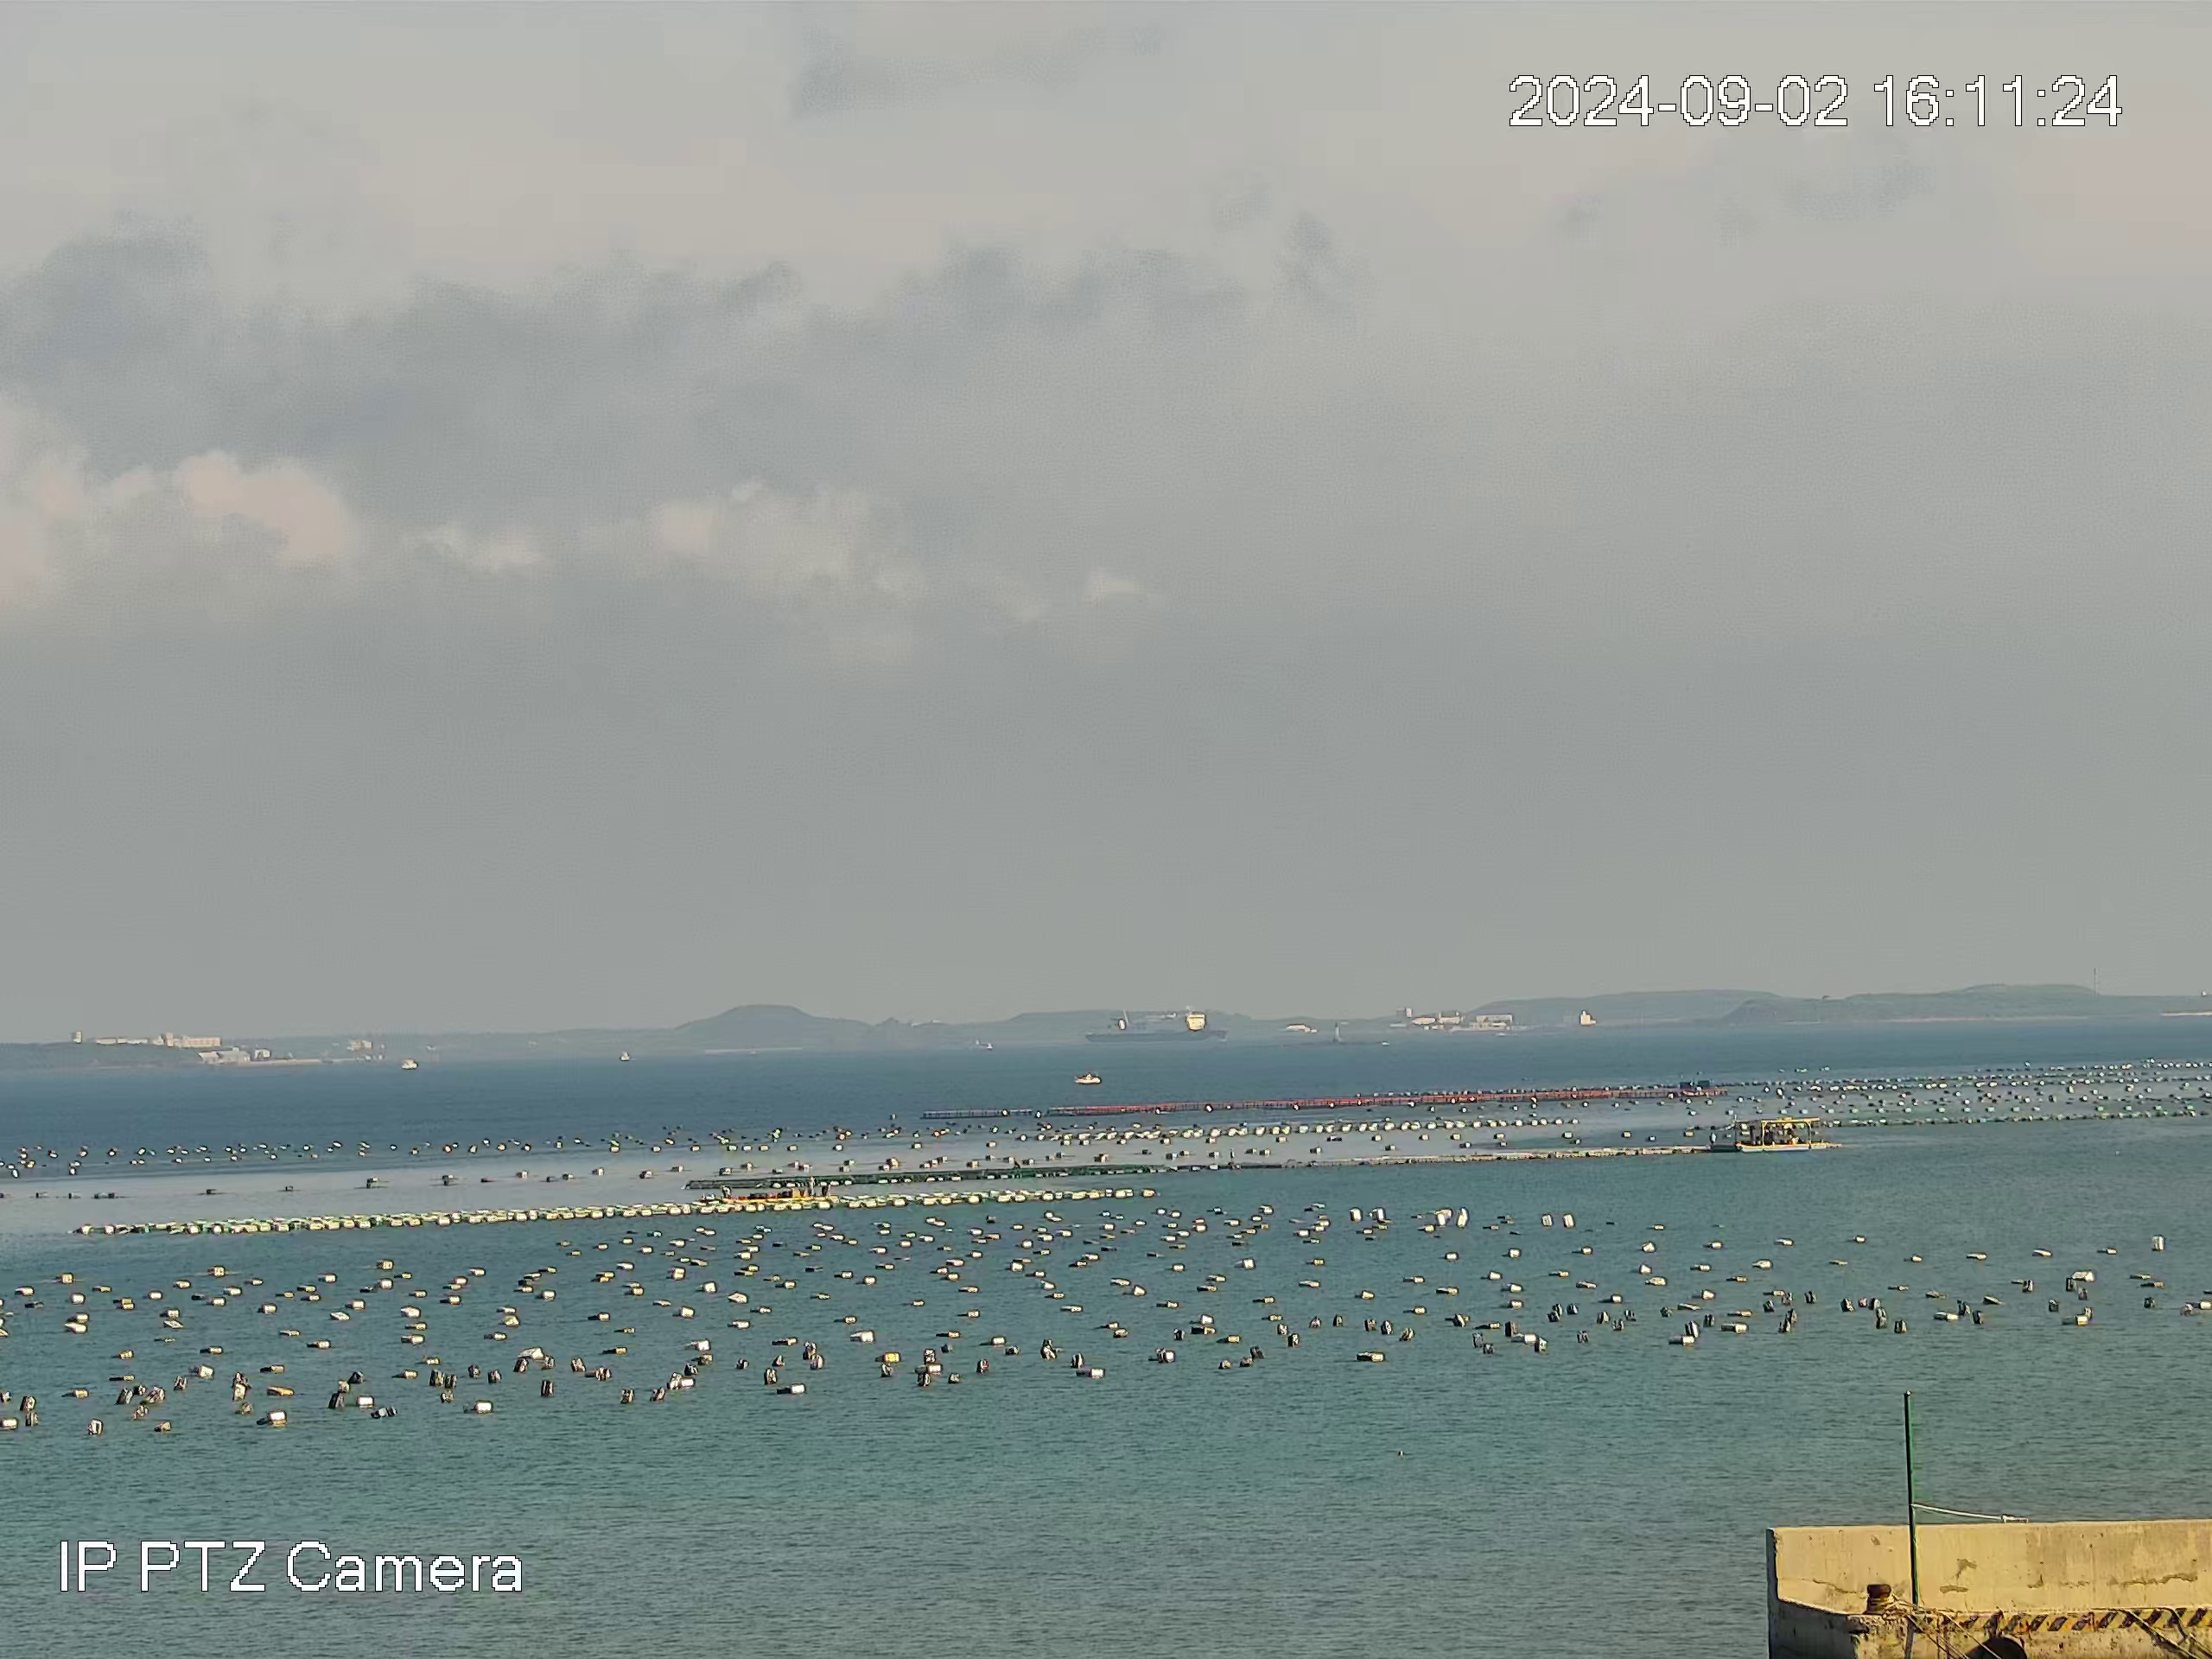boat: (1083, 1012, 1228, 1044), (1733, 1115, 1827, 1154), (718, 1176, 840, 1202), (1073, 1072, 1103, 1086)
